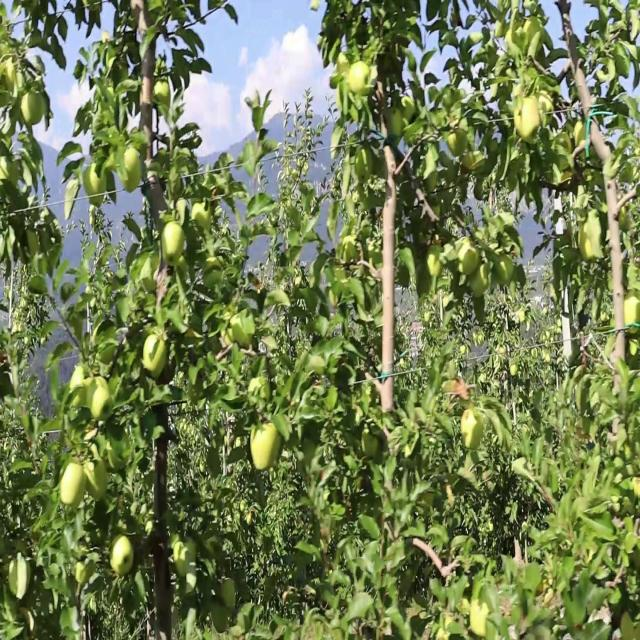apple: (252, 419, 283, 473), (580, 213, 607, 263), (60, 462, 87, 510), (576, 120, 603, 164), (84, 455, 109, 501), (516, 99, 541, 144), (112, 533, 135, 578), (144, 334, 168, 377), (460, 412, 487, 450), (121, 149, 143, 192), (164, 220, 185, 265), (120, 156, 144, 194), (92, 383, 113, 425), (24, 92, 48, 128), (348, 63, 372, 98), (448, 120, 469, 158), (356, 149, 379, 183), (72, 369, 93, 405), (384, 106, 406, 140), (84, 163, 104, 199), (460, 241, 480, 277), (472, 263, 491, 299), (448, 376, 471, 404), (496, 255, 515, 288), (624, 298, 640, 336), (192, 199, 211, 231), (364, 426, 380, 462), (4, 156, 22, 188), (380, 376, 395, 414), (0, 56, 17, 89), (620, 611, 640, 639), (212, 604, 231, 633), (156, 78, 172, 112), (464, 149, 486, 172), (396, 263, 412, 292), (428, 248, 443, 277), (140, 78, 154, 108), (452, 383, 471, 404), (76, 561, 89, 588), (336, 56, 351, 78), (104, 170, 116, 197), (132, 0, 144, 27), (444, 483, 455, 507), (380, 618, 392, 639), (89, 199, 104, 210), (476, 334, 485, 348), (460, 348, 468, 356), (520, 312, 526, 322)
